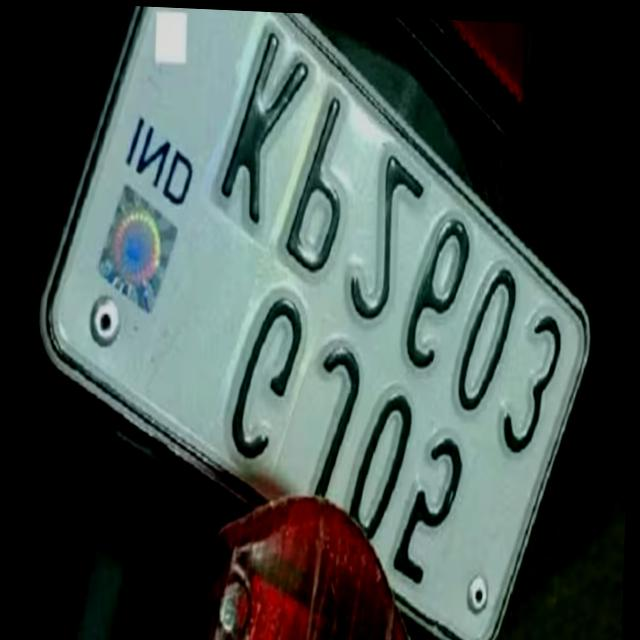0: (456, 250, 524, 407), (357, 377, 419, 528)
2: (346, 146, 429, 319)
3: (500, 305, 568, 450)
5: (401, 421, 475, 585)
6: (405, 208, 477, 365)
d: (164, 144, 196, 209)
g: (230, 279, 309, 470)
i: (126, 114, 147, 169)
j: (307, 343, 370, 499)
k: (219, 28, 311, 219)
n: (136, 121, 172, 190)
p: (291, 94, 357, 273)
